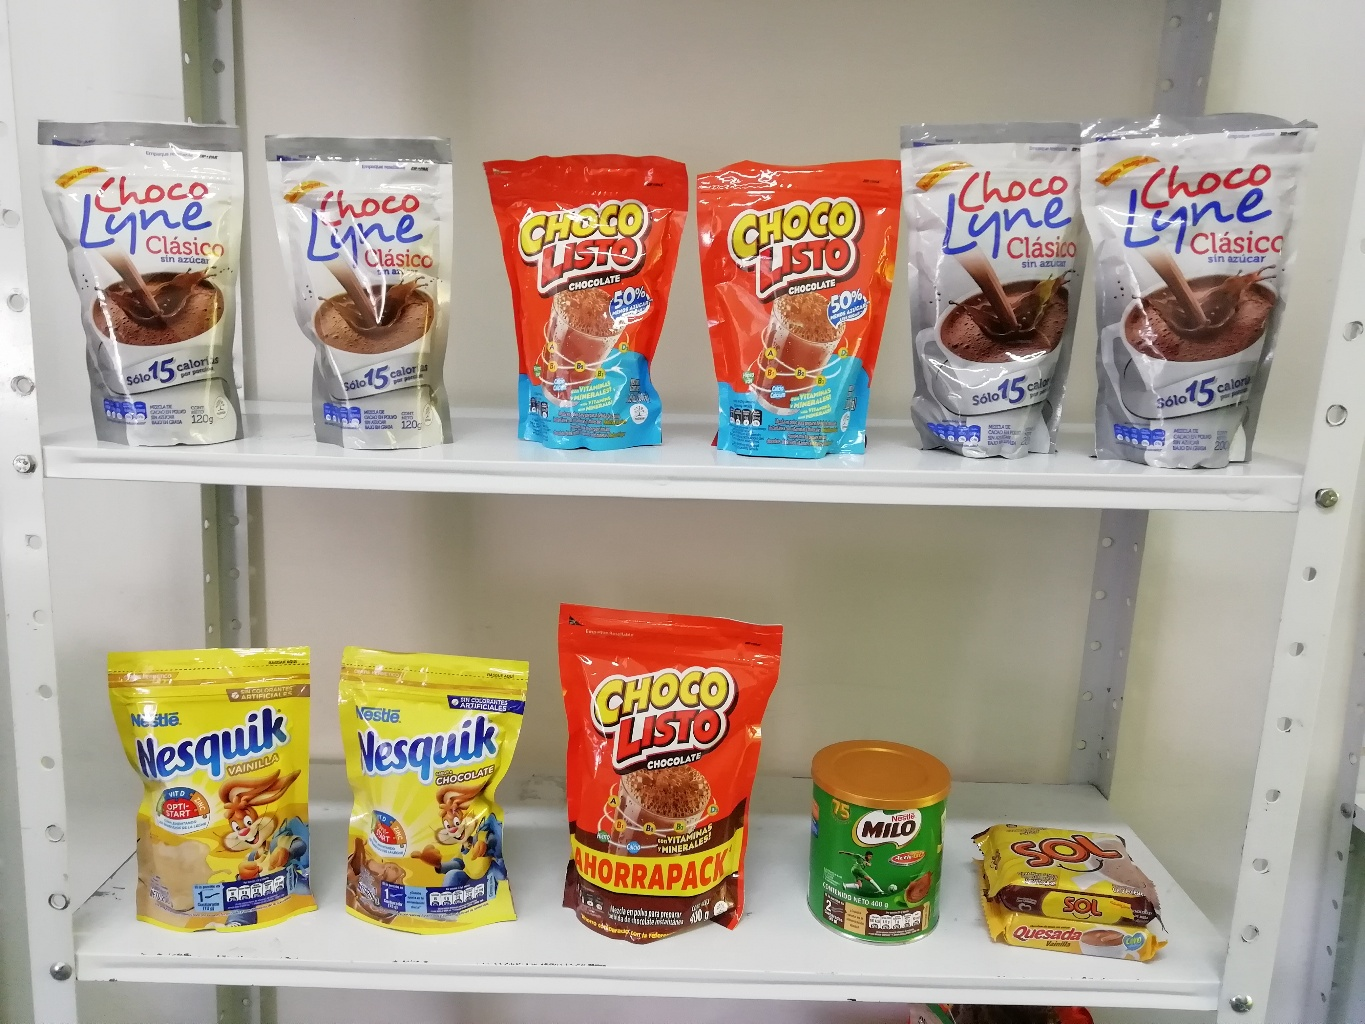COL0170103DYP40000: (554, 595, 790, 954)
COL0170104DYP20000: (703, 151, 891, 456)
COL0170203LAT40000: (798, 725, 964, 950)
COL0170303DYP20000: (341, 645, 527, 939)
COL0170306DYP20000: (94, 639, 328, 935)
